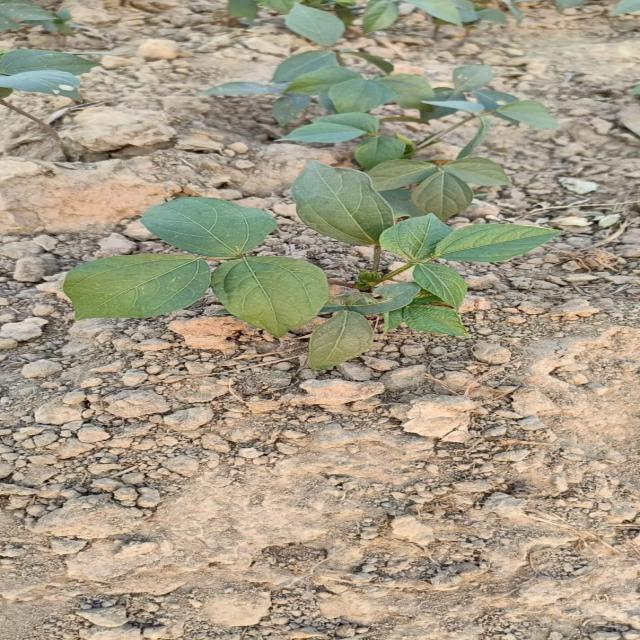plant: (65, 0, 558, 369), (0, 50, 95, 99), (0, 0, 48, 28)
